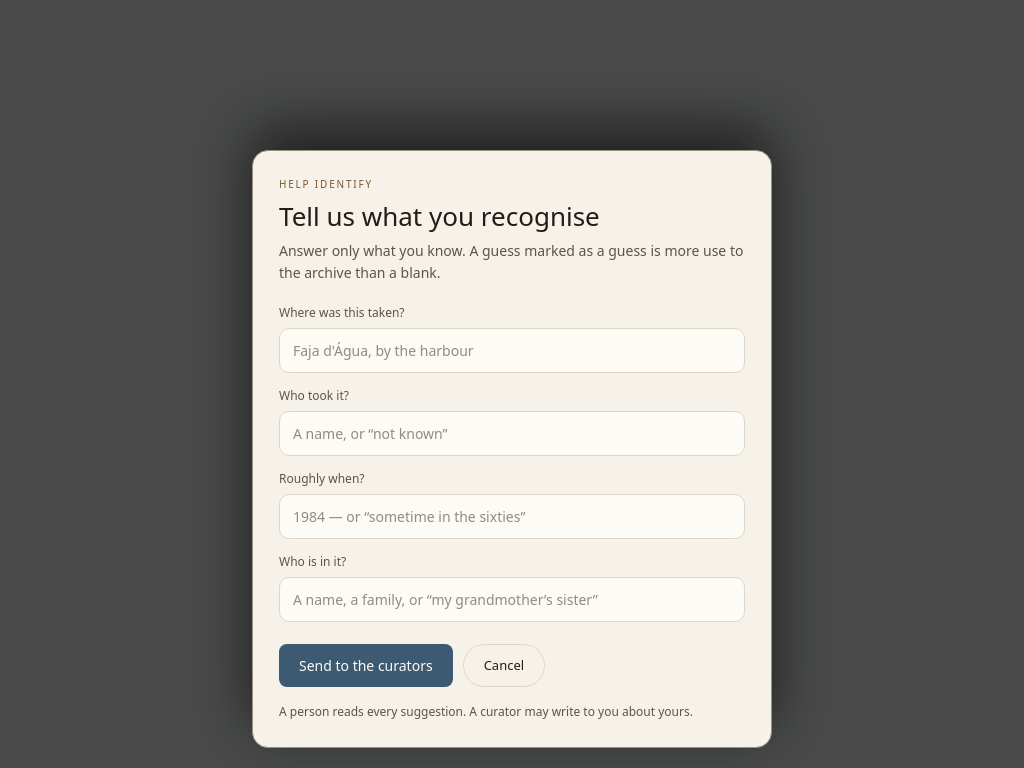
Test: IdentifySheet › empty submissions › posts nothing and says so when every answer is blank
Step 1. Click the button "Send to the curators" → [366, 665], box x1=279 y1=644 x2=453 y2=687
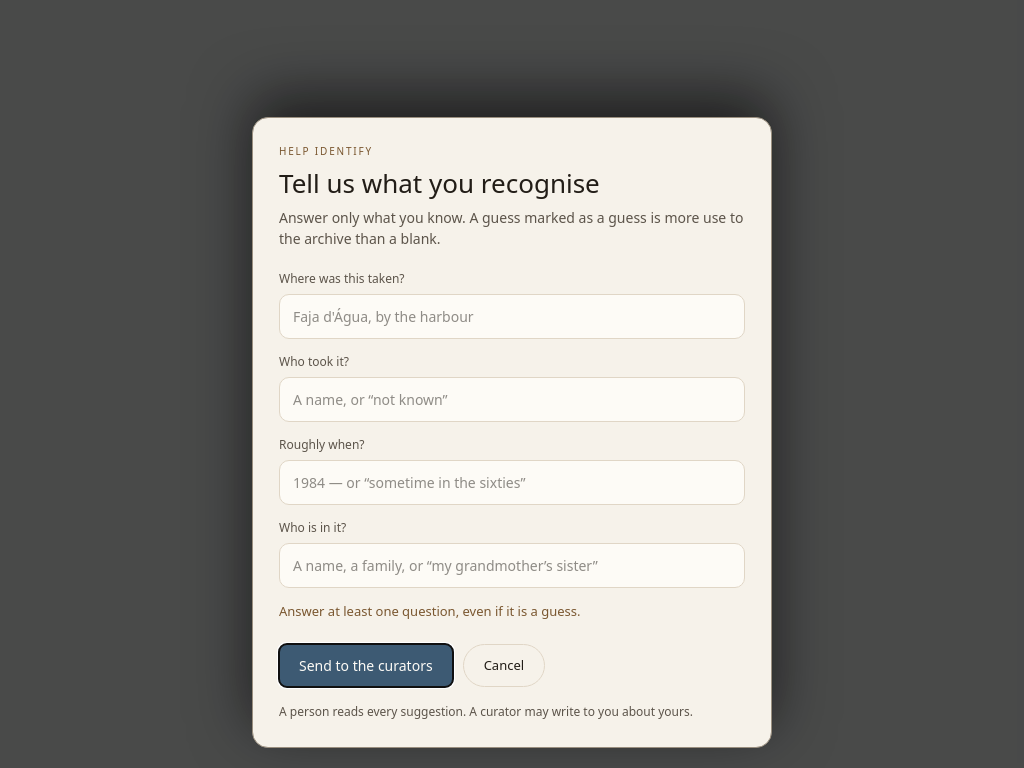
Check: the text "Answer at least one question, even if it is a guess." is shown, box x1=279 y1=602 x2=580 y2=620
